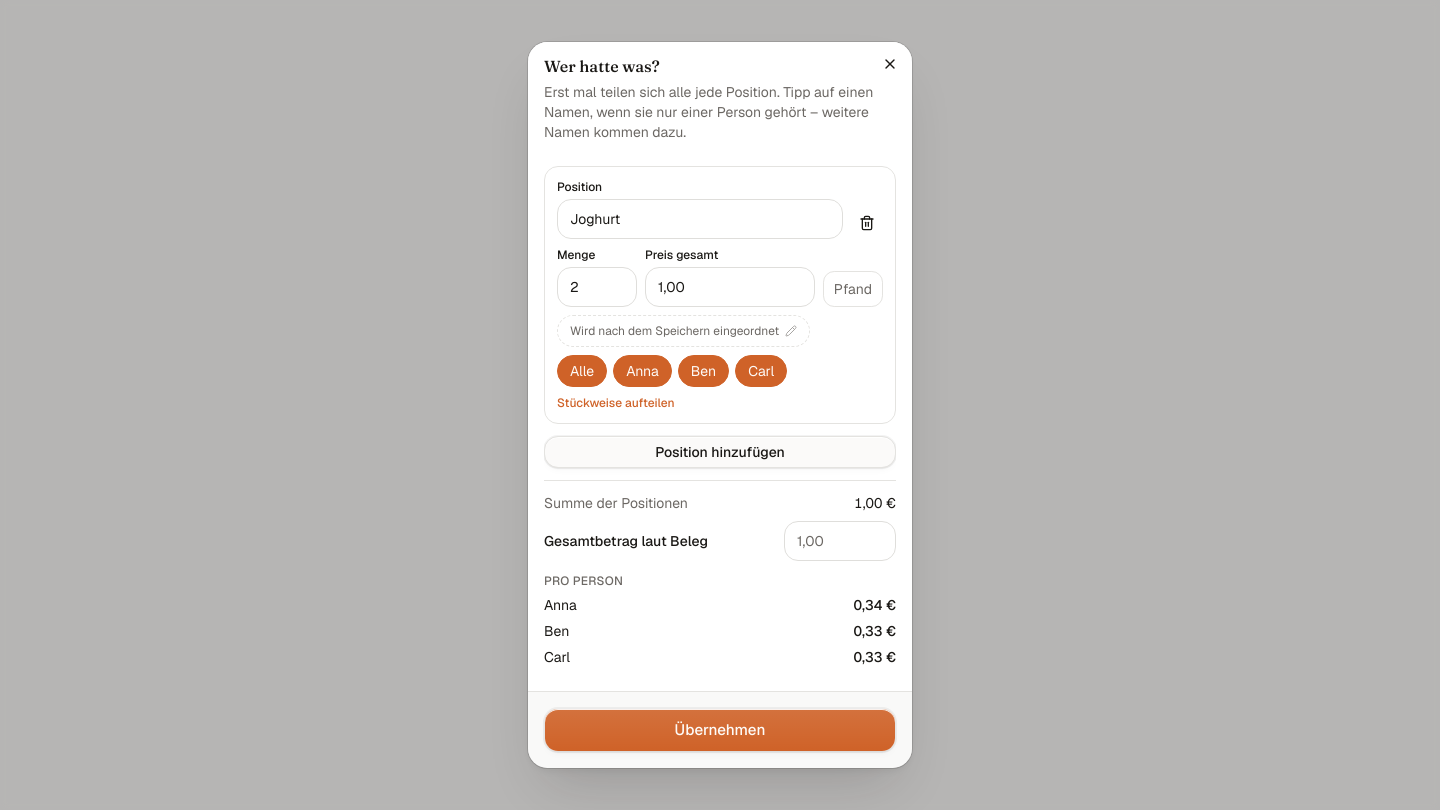
ReceiptSplitDialog › brings everyone back with 'Alle', and folds a split line back into one row
This screenshot has width=1440, height=810.
Click the button "Ben" at [703, 371], box [678,355,729,387]
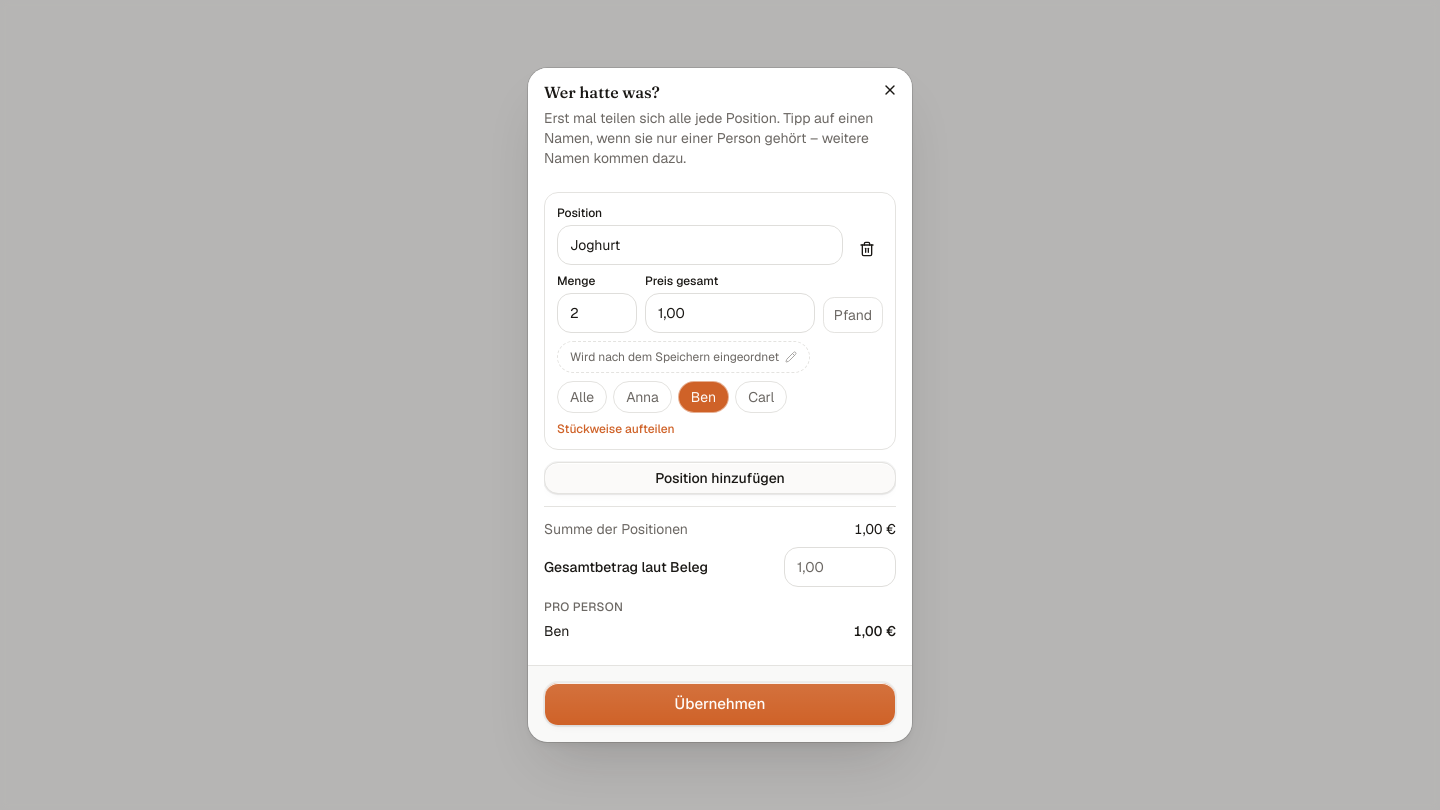
Taking the last name off leaves the line with nobody — said so, and not bookable.
Click the button "Ben" at [703, 397], box [678,381,729,413]
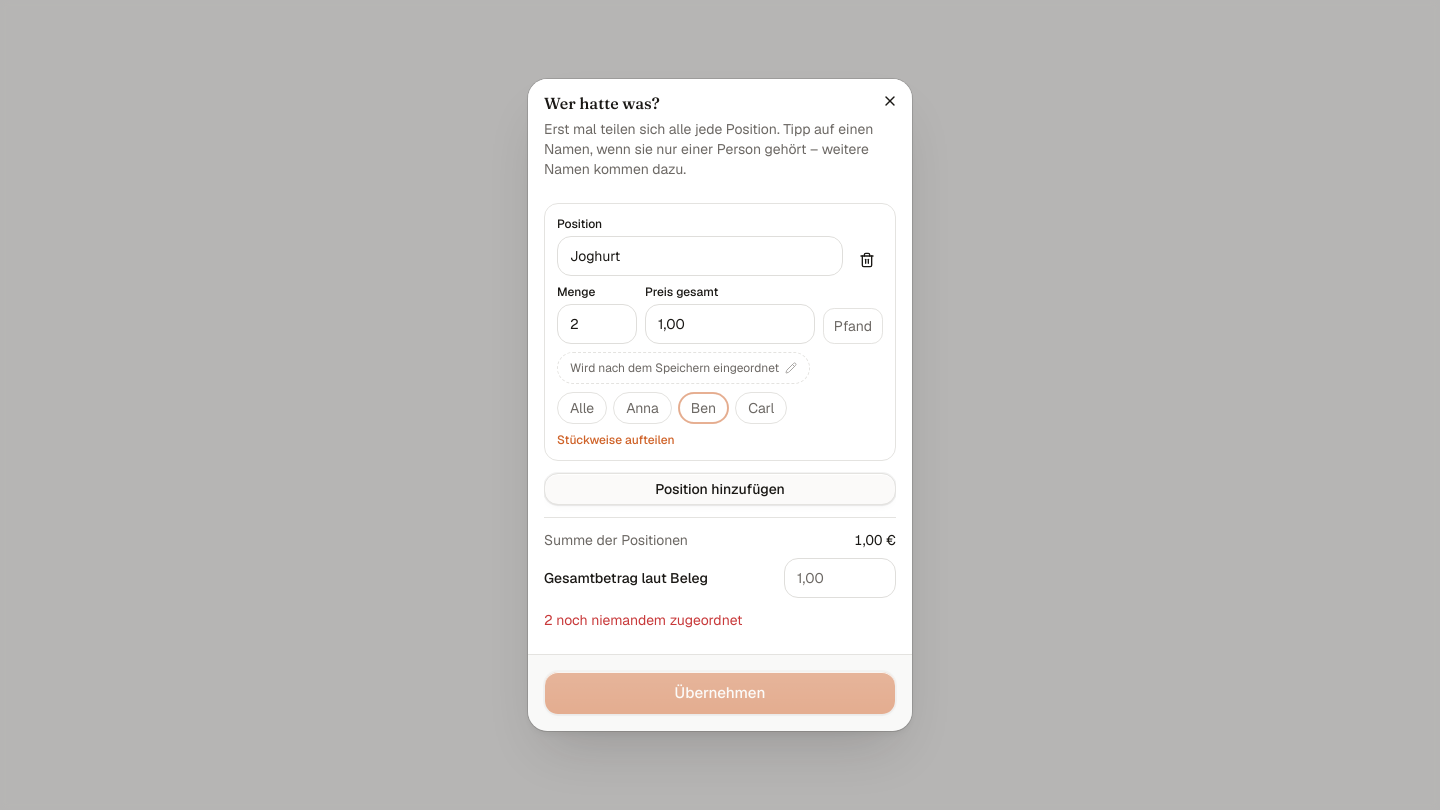
Result: the text "2 noch niemandem zugeordnet" is shown at [544,611,743,629]
Result: the button "Übernehmen" is disabled at [544,671,896,715]
Click the button "Alle" at [582, 408], box [557,392,607,424]
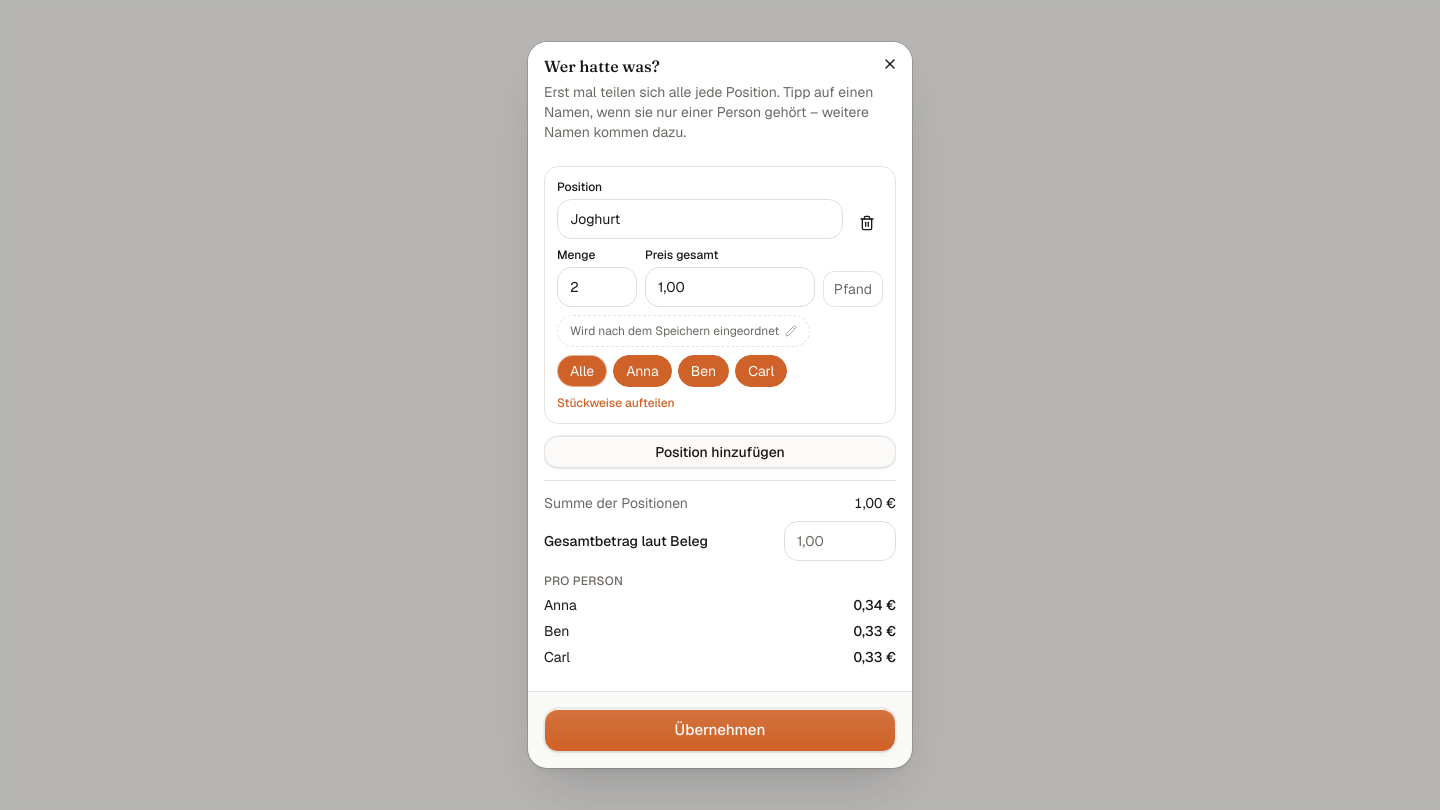
Result: the element with test id "receipt-allocation" reads "Pro Person Anna 0,34 € Ben 0,33 € Carl 0,33 €" at [544,573,896,667]
Click the button "Stückweise aufteilen" at [616, 403], box [557,395,675,411]
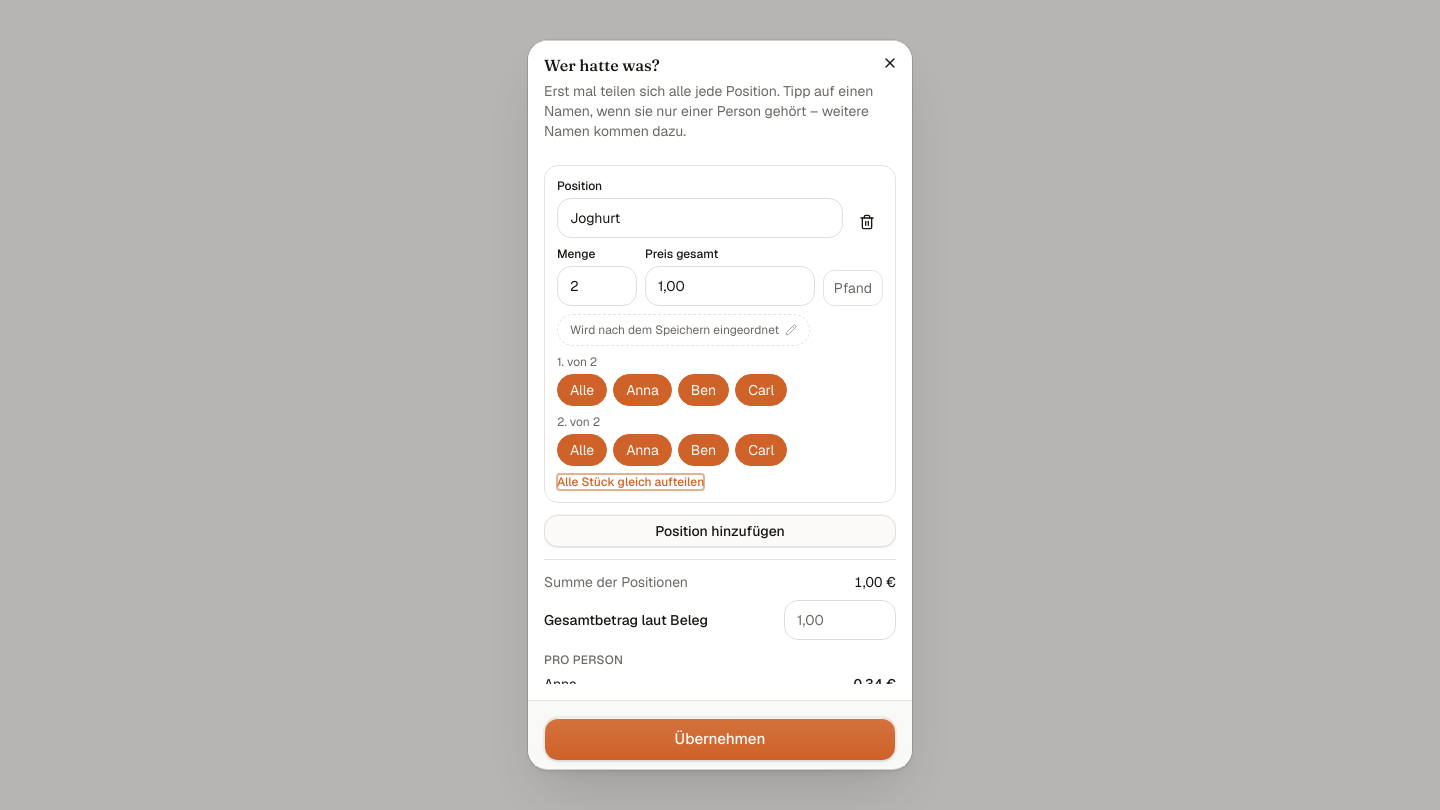
Click the button "Carl" below "2. von 2" at [761, 450], box [735,434,787,466]
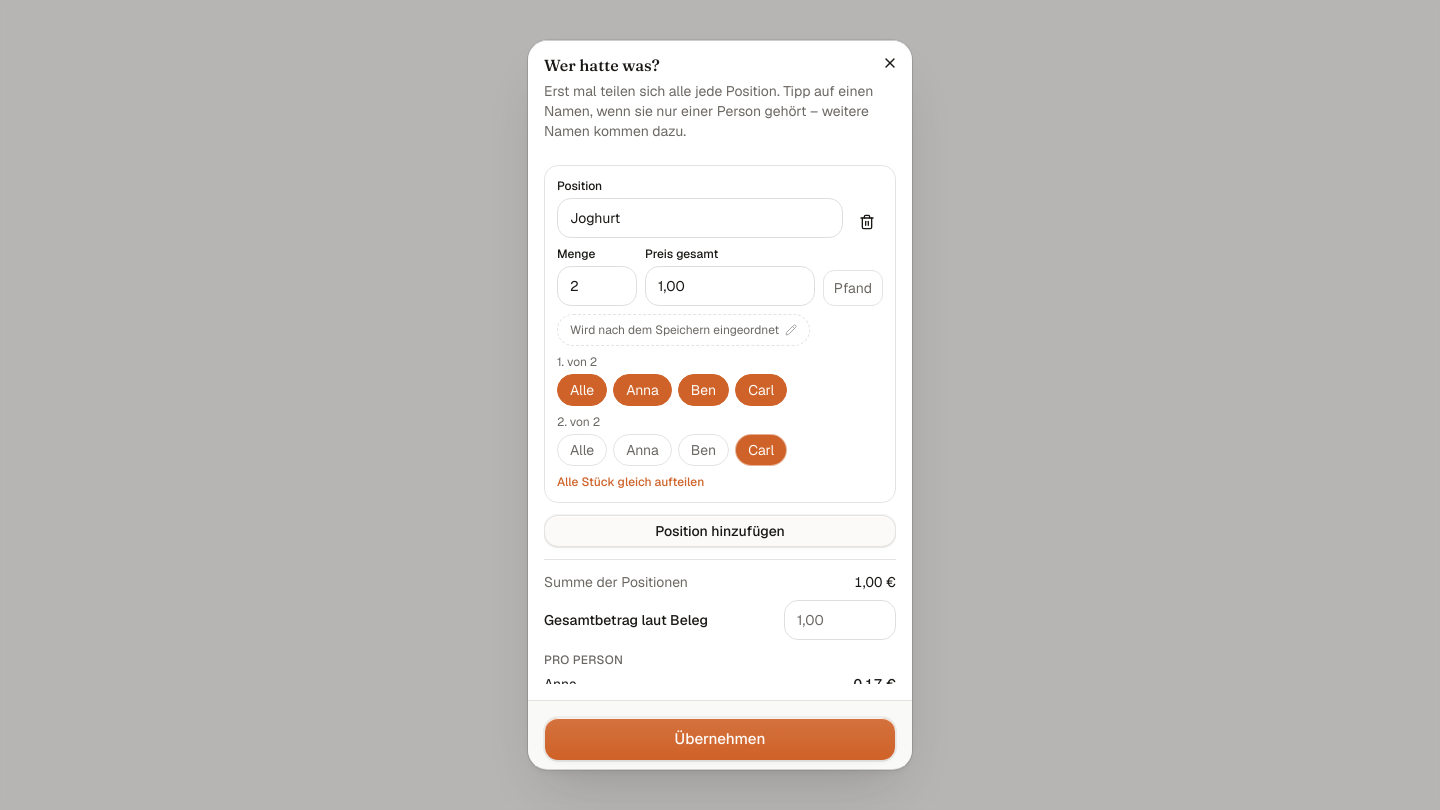
Click the button "Alle Stück gleich aufteilen" at [631, 482], box [557,474,704,490]
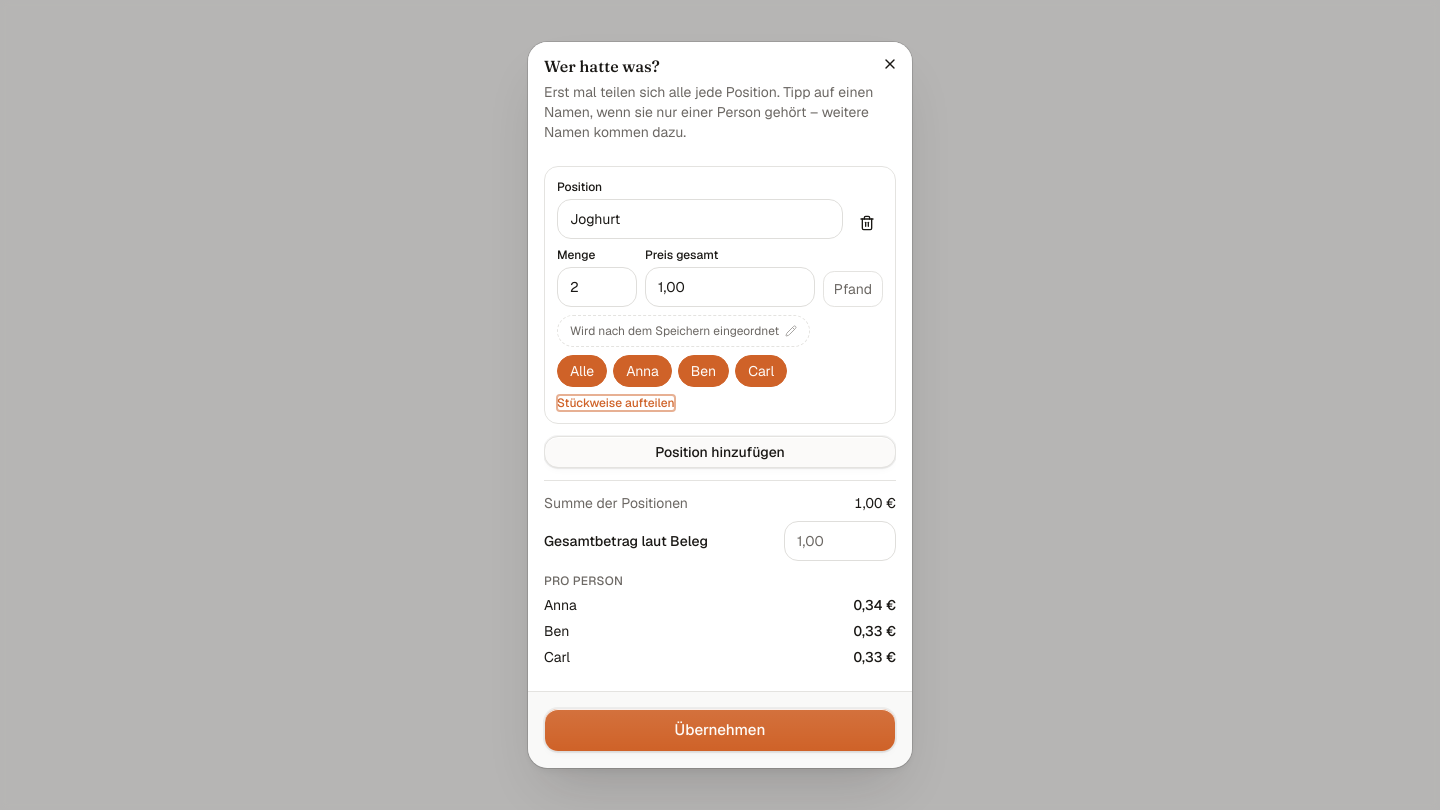
Result: the number of buttons "Carl" is 1 at [735,355,787,387]
Result: the element with test id "receipt-allocation" reads "Pro Person Anna 0,34 € Ben 0,33 € Carl 0,33 €" at [544,573,896,667]
